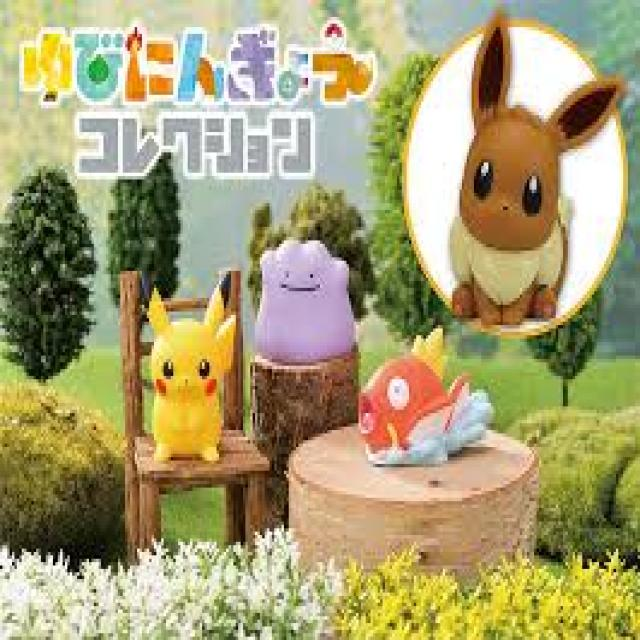Ditto: (257, 236, 353, 358)
Eevee: (450, 73, 586, 324)
Magikarp: (354, 337, 492, 467)
Pikachu: (147, 281, 229, 462)
